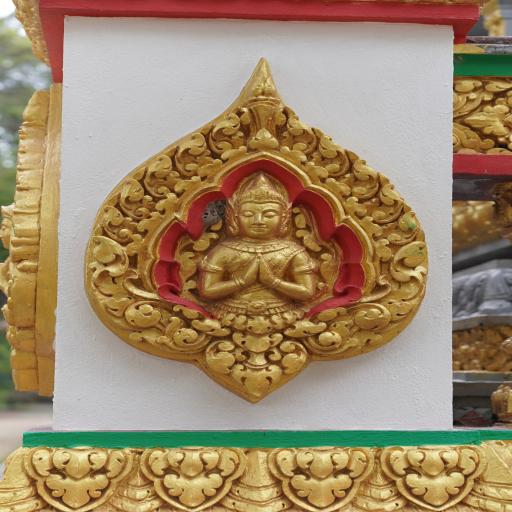la: (261, 437, 387, 512), (24, 434, 131, 512), (136, 442, 239, 512), (379, 440, 478, 512), (205, 333, 307, 398), (365, 235, 443, 307), (116, 297, 206, 354), (82, 238, 138, 305), (371, 188, 425, 245), (298, 120, 346, 176), (353, 167, 396, 229), (306, 321, 365, 366), (116, 170, 156, 236), (346, 296, 412, 336), (336, 141, 374, 209), (139, 146, 179, 206), (275, 110, 315, 161), (212, 106, 244, 169), (97, 193, 131, 252), (176, 121, 204, 187)
than: (179, 170, 331, 316), (0, 198, 13, 349)
